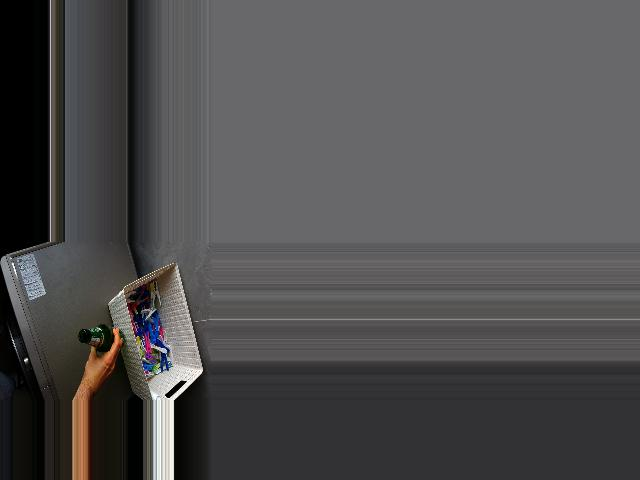beer: (78, 324, 123, 352)
